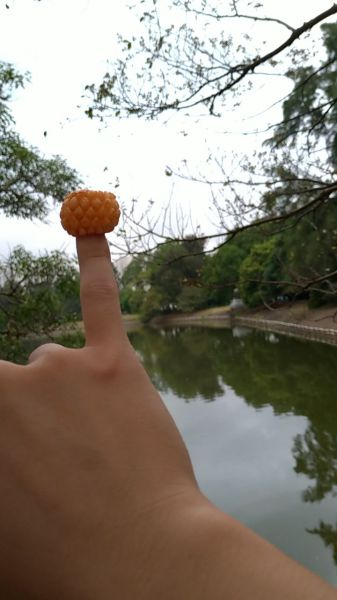eggs: (58, 189, 121, 235)
